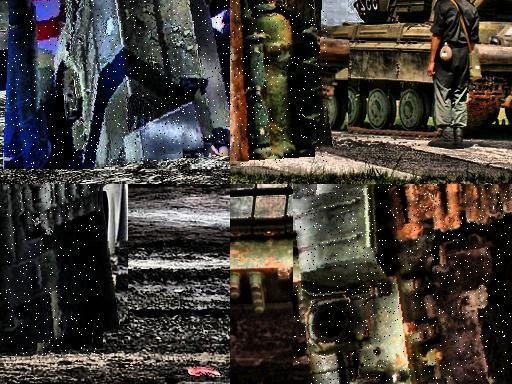tanks: (295, 185, 512, 384), (10, 1, 231, 169), (313, 1, 444, 132), (1, 185, 100, 351), (231, 1, 327, 164), (466, 1, 512, 130)
